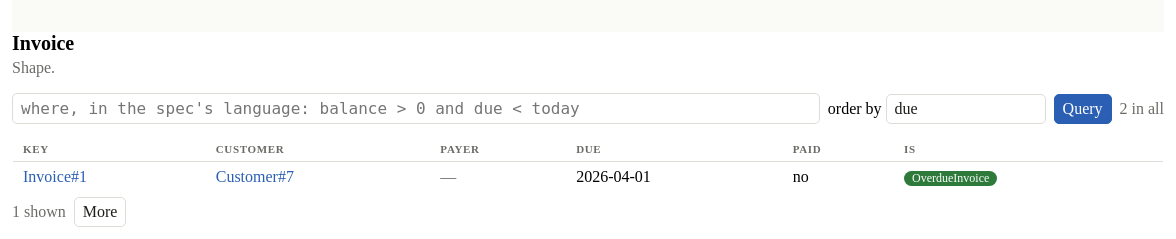
Test: a shape's table › shows the first page ordered by the first orderable member, with the count, and reads more by the cursor
This screenshot has width=1176, height=239.
(page scrolled)
Expected: the text "OverdueInvoice" is shown, [904, 171, 997, 186]
Expected: the text "no" is shown, [783, 162, 894, 196]
Step 1. Click the button "More" → (100, 212), box [74, 197, 126, 227]
(page scrolled)
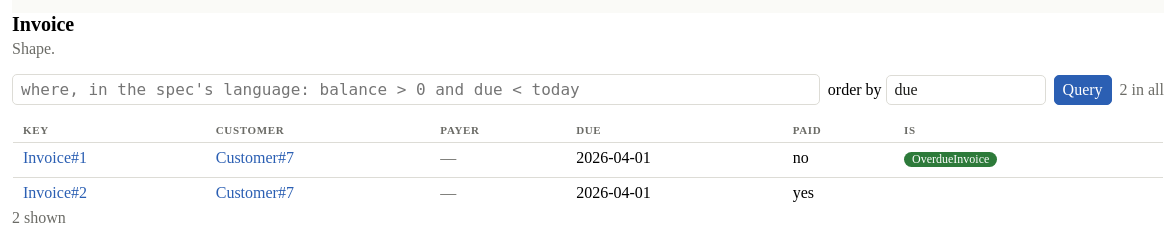
Result: the link "Invoice#2" is shown at [23, 184, 87, 201]
Result: the text "2 shown" is shown at [12, 209, 66, 227]
Result: the button "More" is gone
